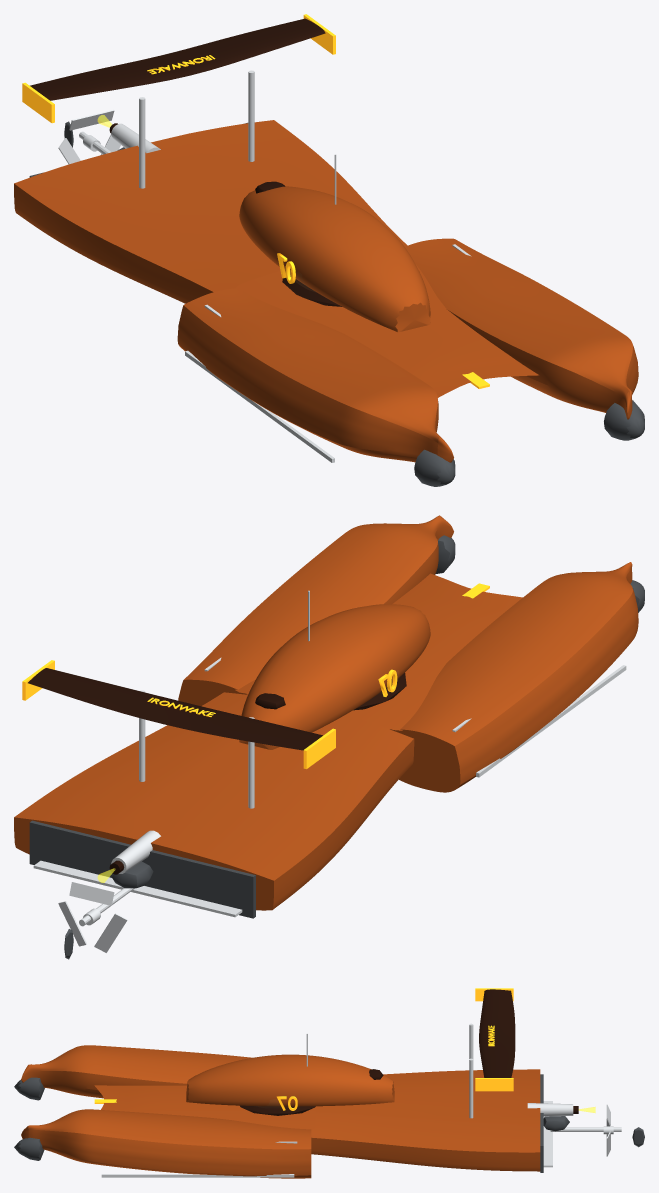
File: ironwake.glb
The picture shows the model from 3 angles, top to bottom: view 1: azimuth 30°, elevation 25°; view 2: azimuth 150°, elevation 25°; view 3: azimuth 270°, elevation 25°; orthographic projection. The views are drawn at different scales.
Parts seen in each view (by area): view 1: Afterplane, Sponson_L, Sponson_R, Cowling, TunnelDeck, RearWing, RamPlate_R, RamPlate_L, SprayRail_L, Endplate_L; view 2: Afterplane, Sponson_L, Sponson_R, Cowling, TunnelDeck, TransomPlate, RearWing, SplashPlate, Exhaust_0, SprayRail_L, Endplate_L, Gearbox (+1 smaller); view 3: Afterplane, Sponson_R, Cowling, Sponson_L, TunnelDeck, RearWing, SprayRail_R, Endplate_R, CanopyFrame, Exhaust_0, RamPlate_R, RamPlate_L (+4 smaller).
Boxes of the visible parts, x1,y1,x2,y2 form: Afterplane: [14, 120, 407, 303]; Sponson_L: [177, 288, 453, 462]; Sponson_R: [405, 238, 638, 419]; Cowling: [239, 186, 430, 332]; TunnelDeck: [236, 264, 538, 397]; RearWing: [30, 18, 325, 100]; RamPlate_R: [604, 400, 644, 440]; RamPlate_L: [414, 449, 455, 486]; SprayRail_L: [185, 350, 334, 462]; Endplate_L: [22, 82, 54, 123]; Afterplane: [14, 692, 414, 910]; Sponson_L: [389, 562, 638, 792]; Sponson_R: [178, 515, 453, 705]; Cowling: [239, 604, 430, 749]; TunnelDeck: [235, 573, 522, 730]; TransomPlate: [29, 820, 255, 918]; RearWing: [28, 668, 322, 750]; SplashPlate: [33, 860, 242, 917]; Exhaust_0: [111, 830, 160, 873]; SprayRail_L: [476, 665, 626, 777]; Endplate_L: [303, 728, 335, 769]; Gearbox: [111, 861, 153, 888]; Afterplane: [311, 1069, 540, 1171]; Sponson_R: [21, 1109, 311, 1178]; Cowling: [186, 1054, 394, 1106]; Sponson_L: [21, 1045, 252, 1098]; TunnelDeck: [94, 1085, 315, 1130]; RearWing: [479, 989, 515, 1077]; SprayRail_R: [101, 1174, 294, 1177]; Endplate_R: [475, 1078, 513, 1091]; CanopyFrame: [240, 1105, 315, 1115]; Exhaust_0: [527, 1103, 573, 1116]; RamPlate_R: [14, 1137, 44, 1160]; RamPlate_L: [14, 1077, 44, 1100].
Size of the model in its own units: 2.78 by 1.64 by 7.58.
